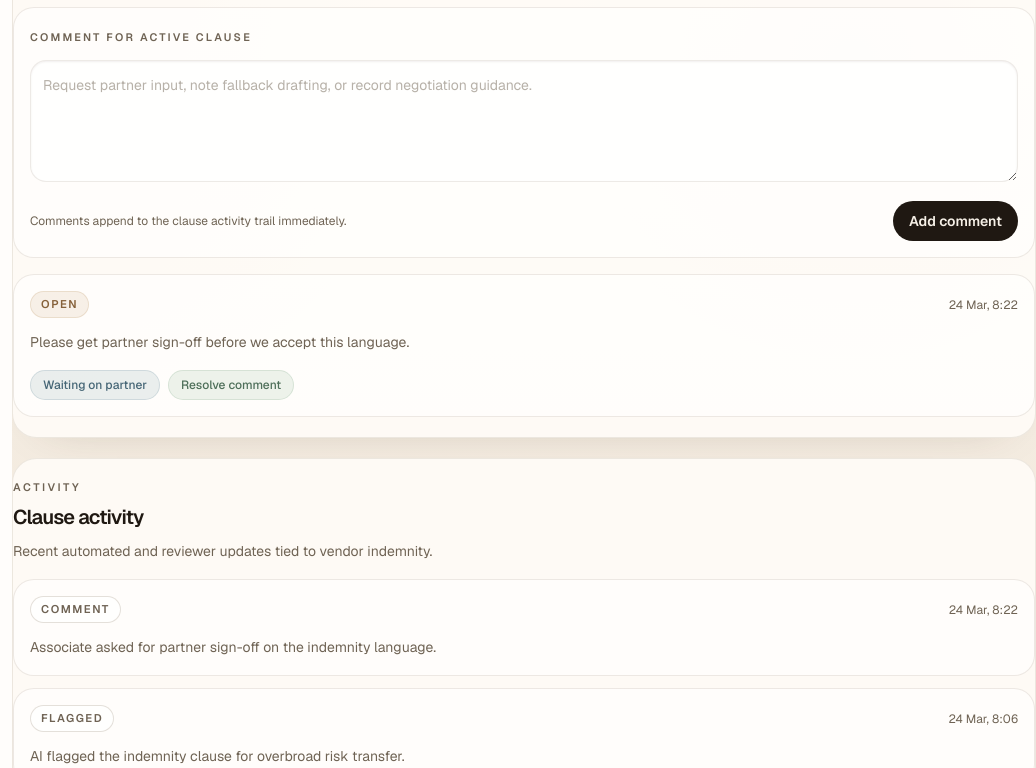
Scenario: ReviewWorkspace › supports waiting and resolved states for clause comments
(page scrolled)
Click the button "Waiting on partner". click: point(95, 385)
box: x1=30 y1=370 x2=160 y2=400
(page scrolled)
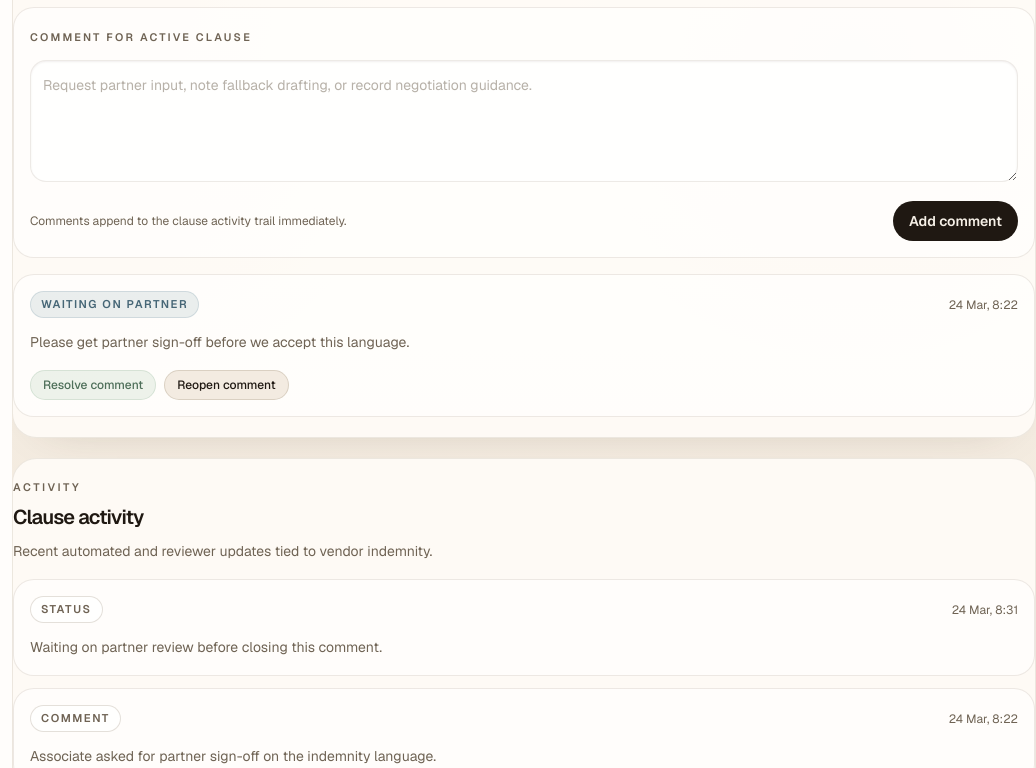
Expected: the text "Waiting on partner" is shown, x1=30 y1=291 x2=199 y2=318
Click the button "Resolve comment". click: point(93, 385)
box: x1=30 y1=370 x2=156 y2=400
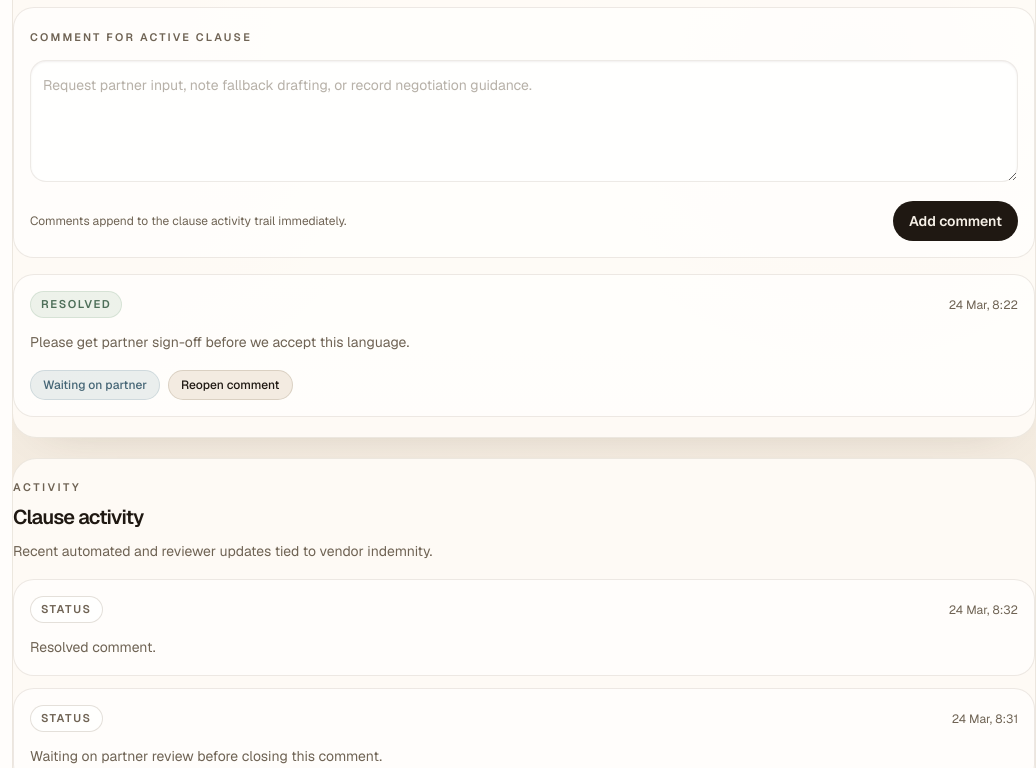
Expected: the text "Resolved" is shown, x1=30 y1=291 x2=122 y2=318
Expected: the text "Resolved comment." is shown, x1=30 y1=638 x2=156 y2=656
